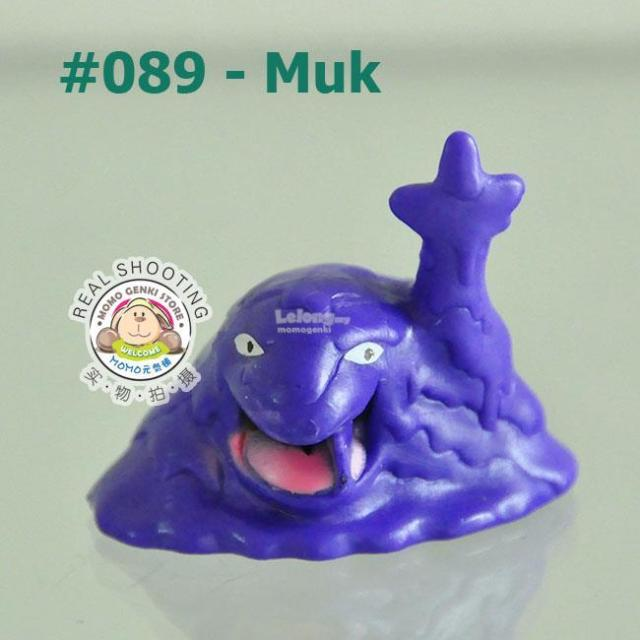Muk: (193, 228, 525, 543)
